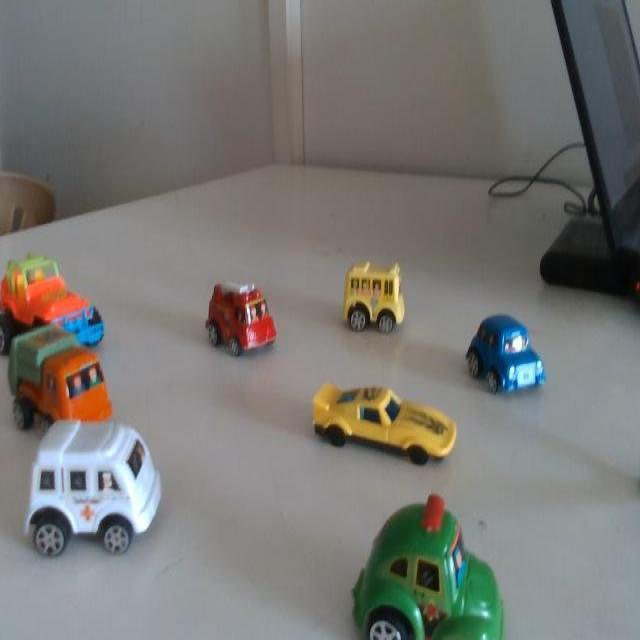car: (35, 393, 189, 584), (382, 512, 510, 639), (327, 368, 452, 483), (25, 245, 113, 356), (36, 316, 105, 438), (335, 254, 418, 350), (204, 268, 277, 373), (478, 310, 547, 402)
